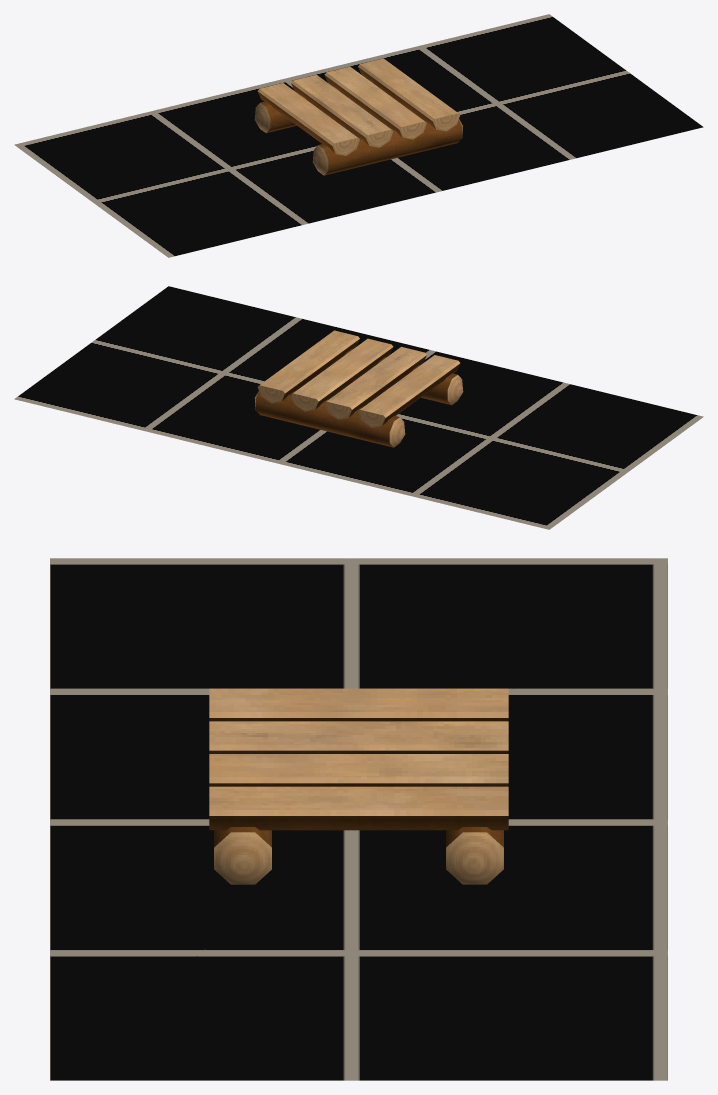
Rendered from Docks_Decking_Flat_1x1.glb.
The picture shows the model from 3 angles, top to bottom: view 1: azimuth 30°, elevation 25°; view 2: azimuth 150°, elevation 25°; view 3: azimuth 270°, elevation 25°; orthographic projection. The views are drawn at different scales.
Visible parts, largest first — view 1: Floor, Docks_Decking_Flat_1x1; view 2: Floor, Docks_Decking_Flat_1x1; view 3: Floor, Docks_Decking_Flat_1x1.
Part boxes in pixels (x1,y1,x2,y2): Floor: (14, 14, 703, 257); Docks_Decking_Flat_1x1: (254, 58, 463, 175); Floor: (14, 286, 703, 529); Docks_Decking_Flat_1x1: (254, 330, 463, 447); Floor: (50, 558, 667, 1080); Docks_Decking_Flat_1x1: (209, 688, 508, 884).
Bounding box in the file's own units: 400 × 25 × 200.
4 materials, 4 textured.
